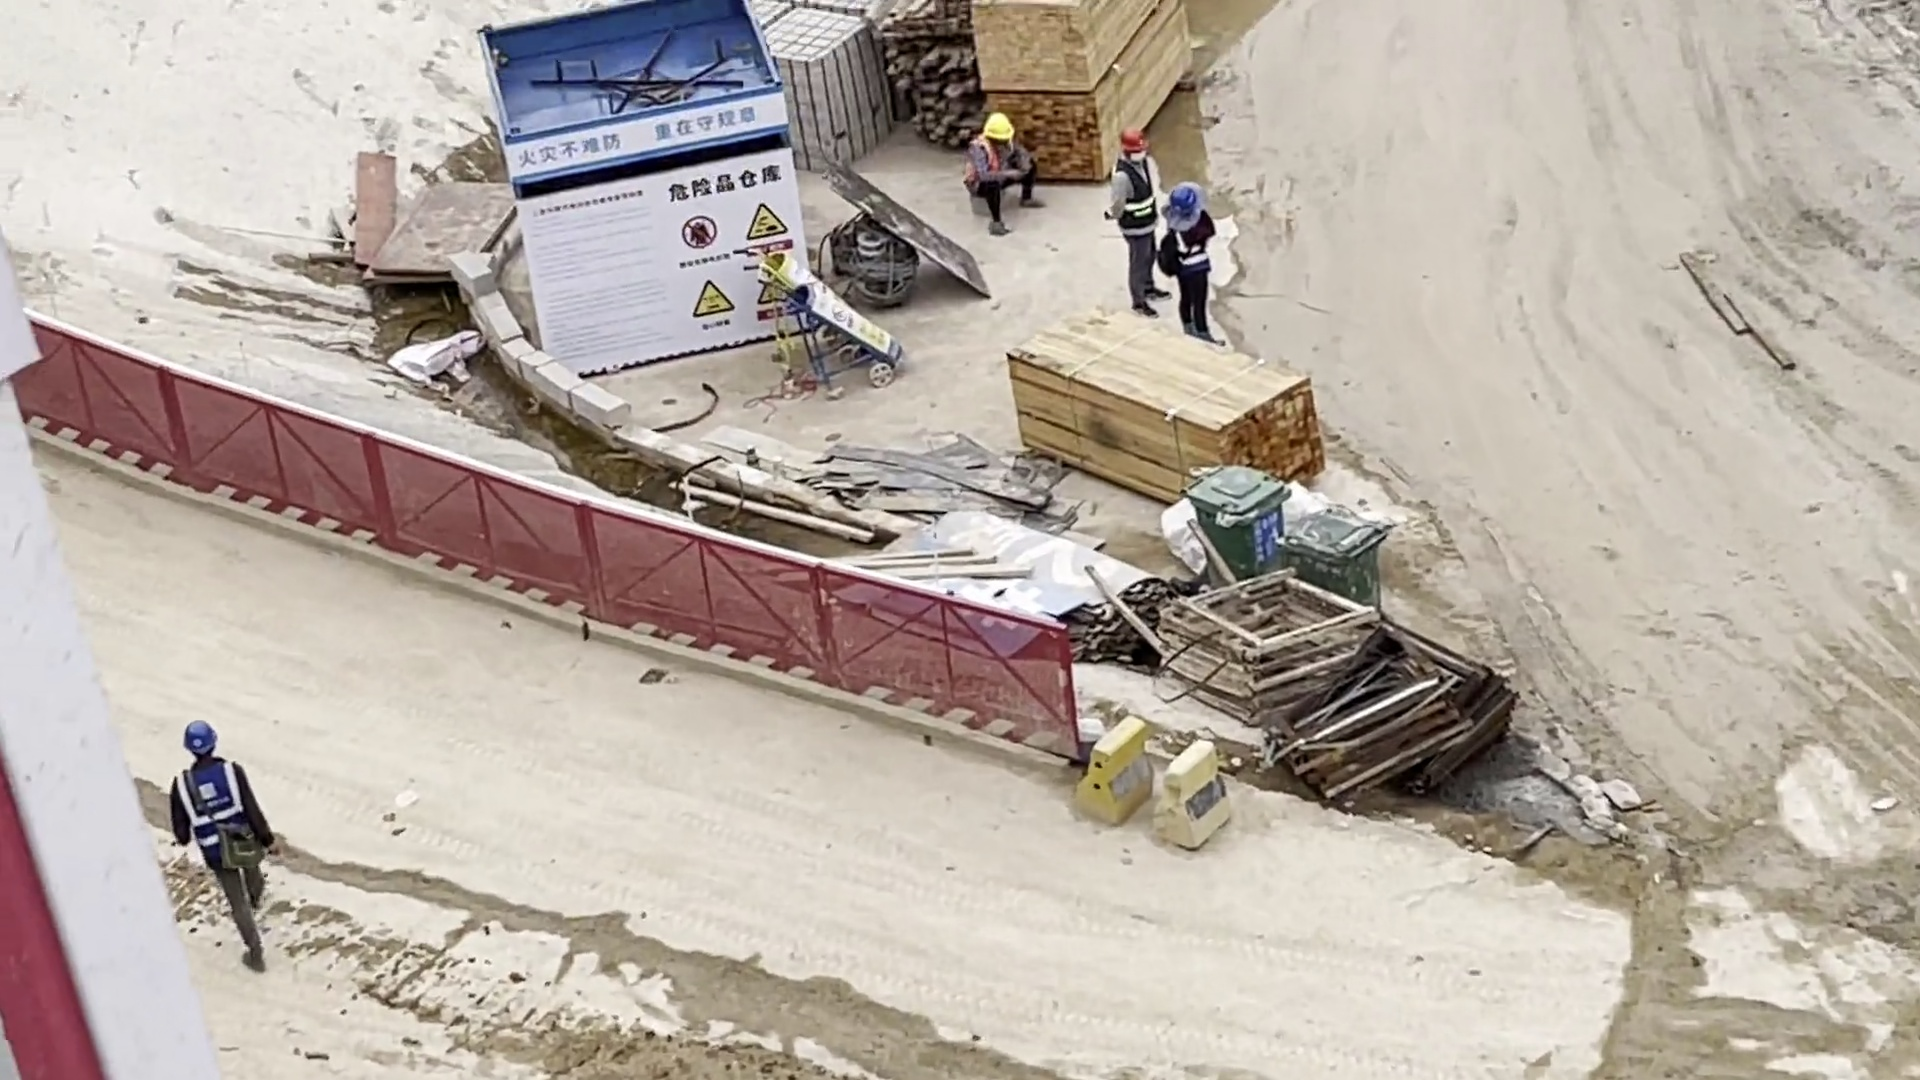fence: (4, 313, 1072, 747)
helmet: (973, 105, 1024, 150), (1109, 121, 1149, 162), (1165, 178, 1202, 220), (173, 722, 216, 758)
person: (161, 719, 298, 972), (1091, 122, 1165, 313), (1159, 180, 1229, 348), (959, 107, 1034, 212)
slogan: (516, 92, 780, 177)
vest: (166, 769, 255, 862), (1109, 155, 1150, 226), (1165, 215, 1205, 270), (965, 138, 1012, 186)
wood: (1002, 310, 1326, 508), (883, 1, 1193, 173), (754, 1, 878, 178)
